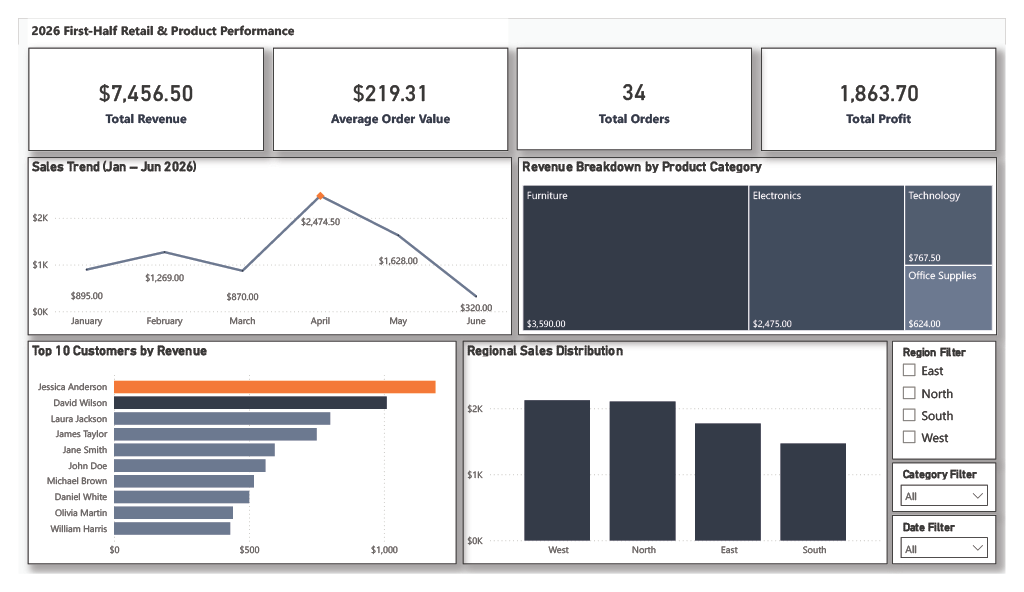

What the dashboard file says about the page in this screenshot:
{"tool":"powerbi","page":{"name":"Page 1","canvas":[1280,720],"ordinal":0},"visuals":[{"type":"columnChart","title":"Regional Sales Distribution","fields":{"Y":["Sum(orders_cleaning.Sales)"],"Category":["customers_cleaning.Region"]},"box":[576,417.8,551.1,289.8],"z":0},{"type":"lineChart","title":"Sales Trend (Jan – Jun 2026)","fields":{"Y":["Sum(orders_cleaning.Sales)"],"Category":["orders_cleaning.Order_Date.Variation.Date Hierarchy.Month"]},"box":[12.4,179.6,627.6,231.1],"z":1000},{"type":"treemap","title":"Revenue Breakdown by Product Category","fields":{"Group":["products_cleaning.Category"],"Values":["Sum(orders_cleaning.Sales)"]},"box":[648,179.6,621,231],"z":2000},{"type":"barChart","title":"Top 10 Customers by Revenue","fields":{"Category":["customers_cleaning.Customer_Name"],"Y":["Sum(orders_cleaning.Sales)"]},"box":[12.4,417.8,555.6,290],"z":3000},{"type":"slicer","fields":{"Values":["customers_cleaning.Region"]},"box":[1133.3,417.8,134.2,153.8],"z":4000},{"type":"slicer","fields":{"Values":["products_cleaning.Category"]},"box":[1133.3,576,134.2,64],"z":5000},{"type":"textbox","box":[12.4,0,622.2,35.6],"z":6000},{"type":"slicer","fields":{"Values":["orders_cleaning.Order_Date"]},"box":[1133.3,643.6,134.2,64],"z":7000},{"type":"card","fields":{"Values":["customers_cleaning.Total Revenue"]},"box":[12.7,38.3,305.5,133.6],"z":8000},{"type":"card","fields":{"Values":["customers_cleaning.AOV"]},"box":[330,38.3,304.5,133.6],"z":9000},{"type":"card","fields":{"Values":["Sum(orders_cleaning.Profit)"]},"box":[962.7,38.3,305.5,133.6],"z":10000},{"type":"card","fields":{"Values":["customers_cleaning.Total Orders"]},"box":[646.4,38,304.3,132.9],"z":11000}]}

Visuals, with their boxes in screenshot pixels (x1, y1, x2, y2), scaled from the page's 1280x720 canvas onto the 1024x592 screenshot:
"Regional Sales Distribution" columnChart: region(461, 344, 902, 582)
"Sales Trend (Jan – Jun 2026)" lineChart: region(10, 148, 512, 338)
"Revenue Breakdown by Product Category" treemap: region(518, 148, 1015, 338)
"Top 10 Customers by Revenue" barChart: region(10, 344, 454, 582)
slicer - customers_cleaning.Region: region(907, 344, 1014, 470)
slicer - products_cleaning.Category: region(907, 474, 1014, 526)
textbox: region(10, 0, 508, 29)
slicer - orders_cleaning.Order_Date: region(907, 529, 1014, 582)
card - customers_cleaning.Total Revenue: region(10, 31, 255, 141)
card - customers_cleaning.AOV: region(264, 31, 508, 141)
card - Sum(orders_cleaning.Profit): region(770, 31, 1015, 141)
card - customers_cleaning.Total Orders: region(517, 31, 761, 141)
